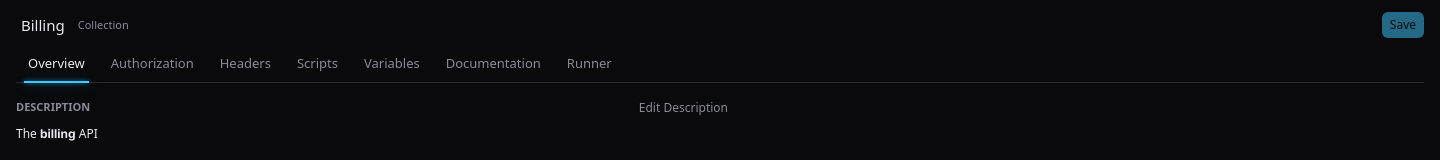
Test: ItemTab › adds the Runner section last for collections and folders, on the section the store asks for
Step 1. Click the tab "Runner" → (589, 64), box [555,46,624,82]
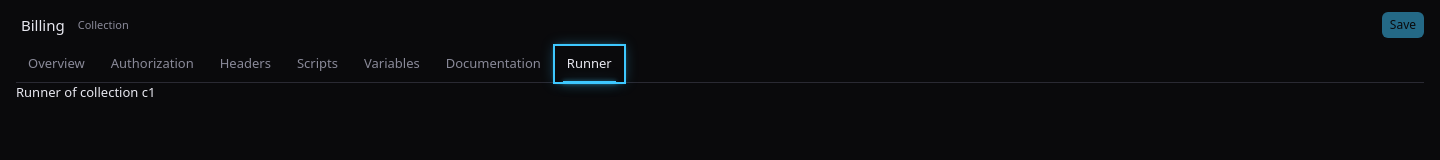
expect the panel reads "Runner of collection c1": met, box [16,82,155,100]
